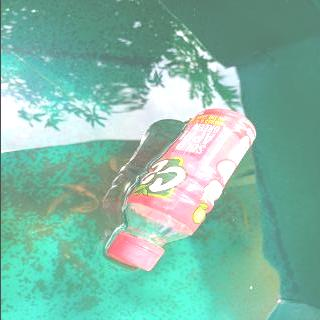bottle: (104, 108, 258, 272)
